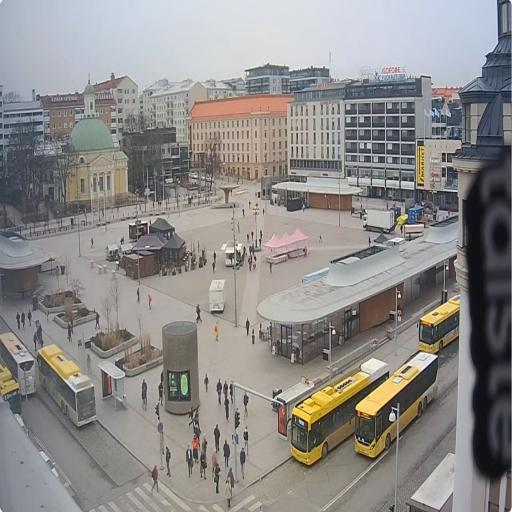bus: (291, 352, 390, 466), (351, 345, 437, 460), (36, 342, 100, 432), (0, 322, 40, 403), (416, 290, 462, 355), (0, 357, 26, 420)
car: (205, 174, 214, 184), (188, 172, 199, 180), (201, 174, 207, 180)
delivery: (361, 207, 397, 233)
